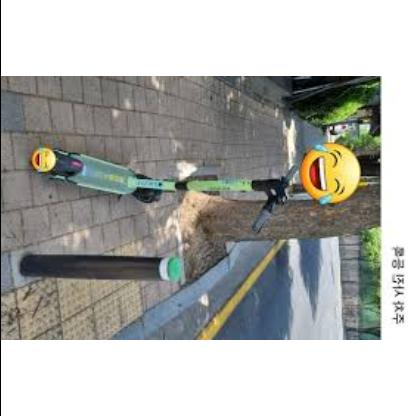bike: (30, 142, 361, 236)
